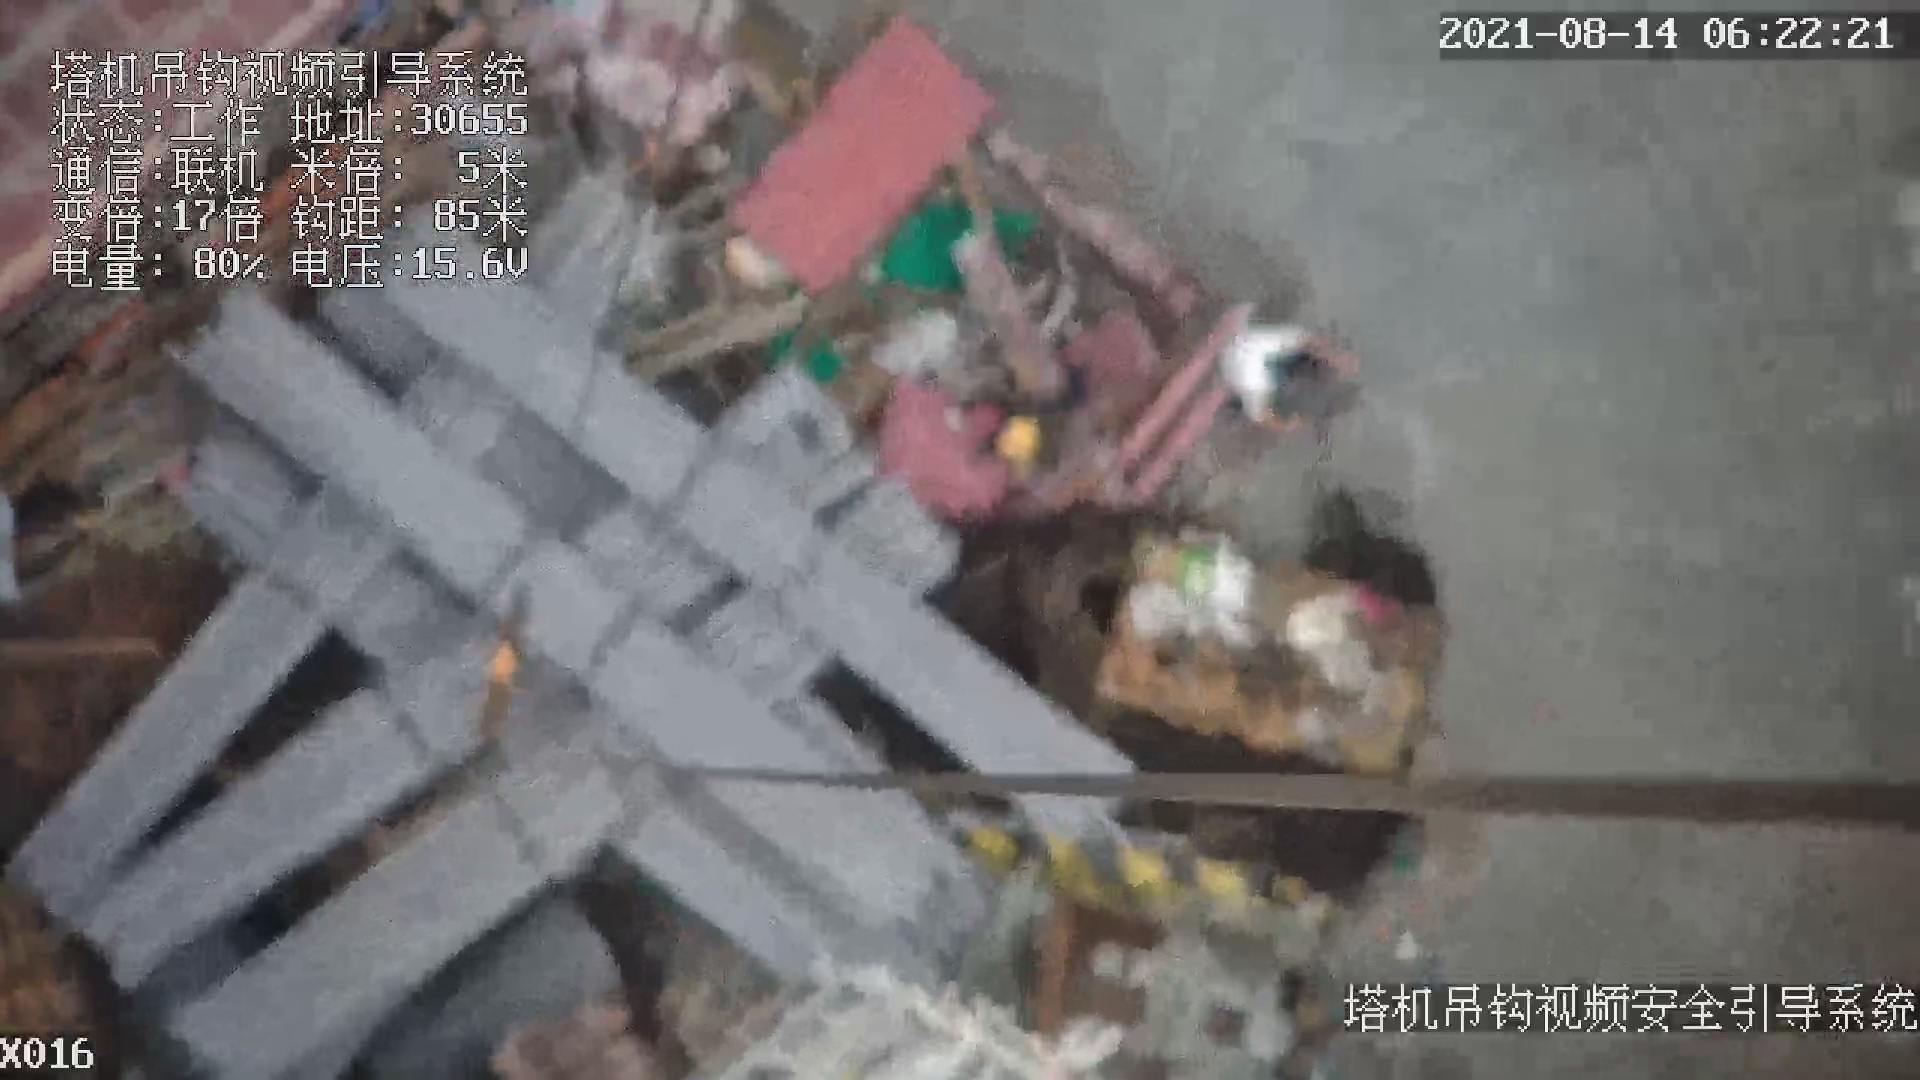hook: (482, 583, 531, 747)
person: (1215, 320, 1381, 439)
